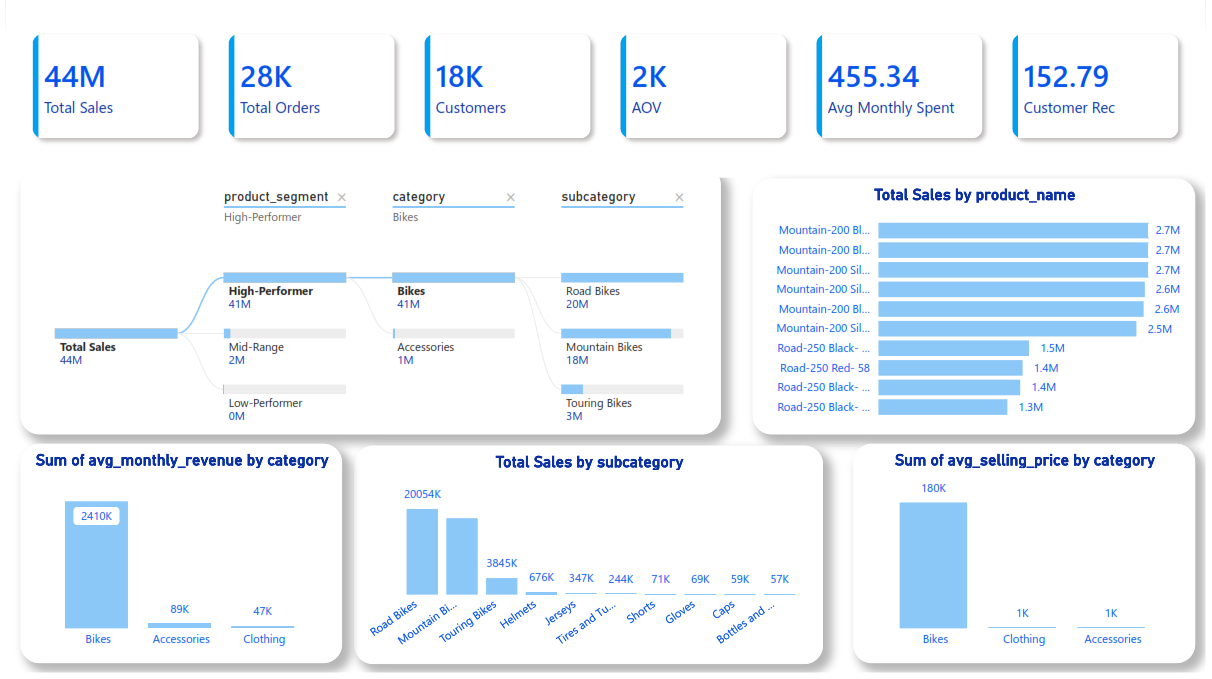

What the dashboard file says about the page in this screenshot:
{"tool":"powerbi","page":{"name":"Product Analysis","canvas":[1280,720],"ordinal":3},"visuals":[{"type":"decompositionTreeVisual","fields":{"ExplainBy":["gold report_products.product_segment","gold report_products.category","gold report_products.subcategory"],"Analyze":["gold report_customer.Total Sales"]},"box":[15.9,179.6,747.3,286.8],"z":0},{"type":"cardVisual","fields":{"Data":["gold report_customer.Total Sales","gold report_customer.Total Orders","gold report_customer.Total Quantity","gold report_customer.Customers"]},"box":[0,0,1280.3,192.3],"z":1000},{"type":"clusteredBarChart","fields":{"Y":["gold report_customer.Total Sales"],"Category":["gold report_products.product_name"]},"box":[796.6,192.6,472.1,273.7],"z":1001},{"type":"cardVisual","fields":{"Data":["gold report_customer.Total Sales","gold report_customer.Total Orders","gold report_customer.Customers","gold report_customer.AOV","gold report_customer.Avg Monthly Spent","gold report_customer.Customer Rec"]},"box":[0,10,1280.3,169.5],"z":1002},{"type":"clusteredColumnChart","fields":{"Y":["gold report_customer.Total Sales"],"Category":["gold report_products.subcategory"]},"box":[372.2,477.9,499.7,233.2],"z":1003},{"type":"clusteredColumnChart","fields":{"Y":["Sum(gold report_products.avg_monthly_revenue)"],"Category":["gold report_products.category"]},"box":[15.9,476.5,343.2,233.2],"z":1004},{"type":"clusteredColumnChart","fields":{"Category":["gold report_products.category"],"Y":["Sum(gold report_products.avg_selling_price)"]},"box":[903.7,476.5,365,233.2],"z":1005}]}

Visuals, with their boxes in screenshot pixels (x1, y1, x2, y2), scaled from the page's 1280x720 canvas onto the 1212x679 screenshot:
decompositionTreeVisual - gold report_products.product_segment x gold report_products.category: locate(15, 169, 723, 440)
cardVisual - gold report_customer.Total Sales x gold report_customer.Total Orders: locate(0, 0, 1211, 181)
clusteredBarChart - gold report_customer.Total Sales x gold report_products.product_name: locate(754, 182, 1201, 440)
cardVisual - gold report_customer.Total Sales x gold report_customer.Total Orders: locate(0, 9, 1211, 169)
clusteredColumnChart - gold report_customer.Total Sales x gold report_products.subcategory: locate(352, 451, 826, 671)
clusteredColumnChart - Sum(gold report_products.avg_monthly_revenue) x gold report_products.category: locate(15, 449, 340, 669)
clusteredColumnChart - gold report_products.category x Sum(gold report_products.avg_selling_price): locate(856, 449, 1201, 669)
